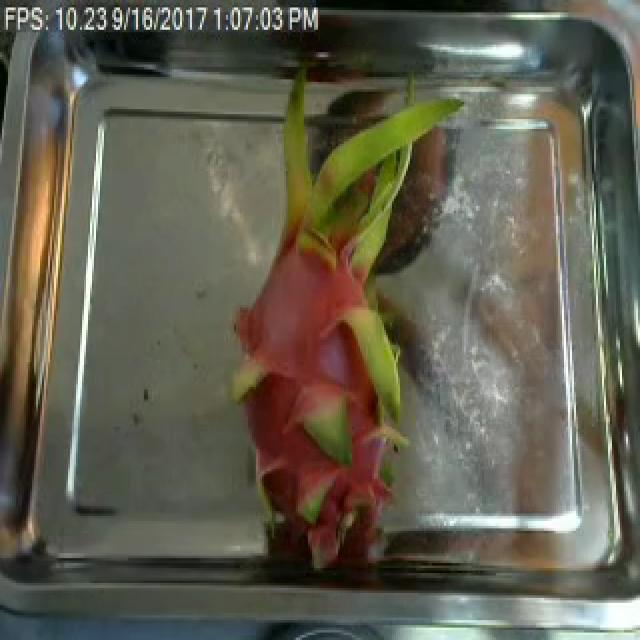fruit: (220, 72, 456, 511)
